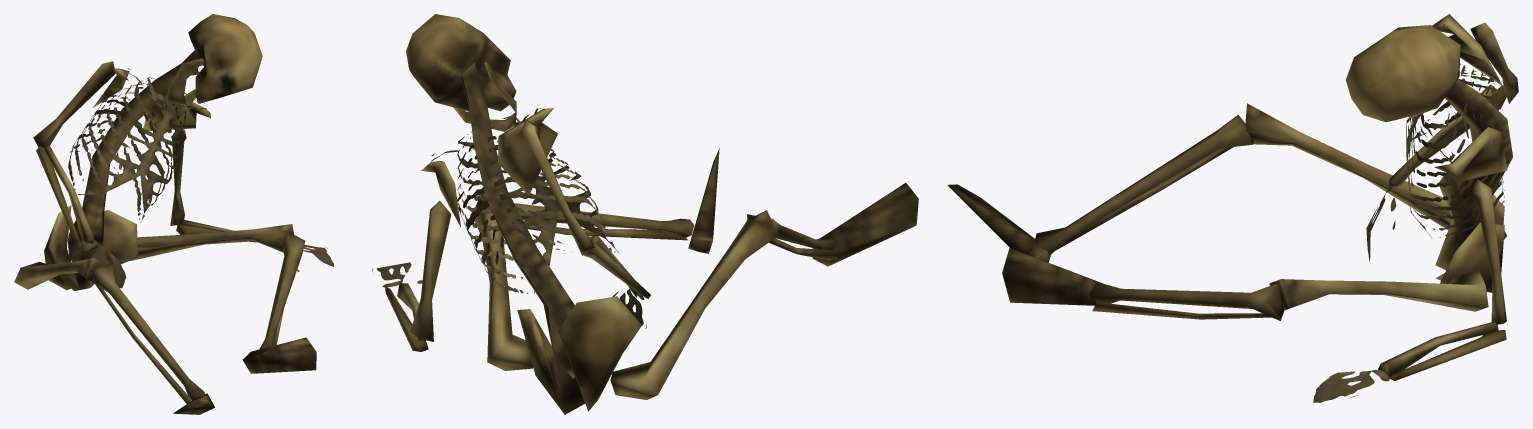
File: mlzd_kulou_02.FBX
The picture shows the model from 3 angles, left to right: view 1: azimuth 30°, elevation 25°; view 2: azimuth 150°, elevation 25°; view 3: azimuth 270°, elevation 25°; orthographic projection. The views are drawn at different scales.
Visible parts, largest first — view 1: mlzd_kulou_02; view 2: mlzd_kulou_02; view 3: mlzd_kulou_02.
Boxes of the visible parts, box(x1,y1,x2,y2) form: mlzd_kulou_02: box(14, 14, 334, 414); mlzd_kulou_02: box(372, 14, 918, 414); mlzd_kulou_02: box(947, 14, 1518, 402).
Bounding box in the file's own units: 115 × 96.88 × 144.
